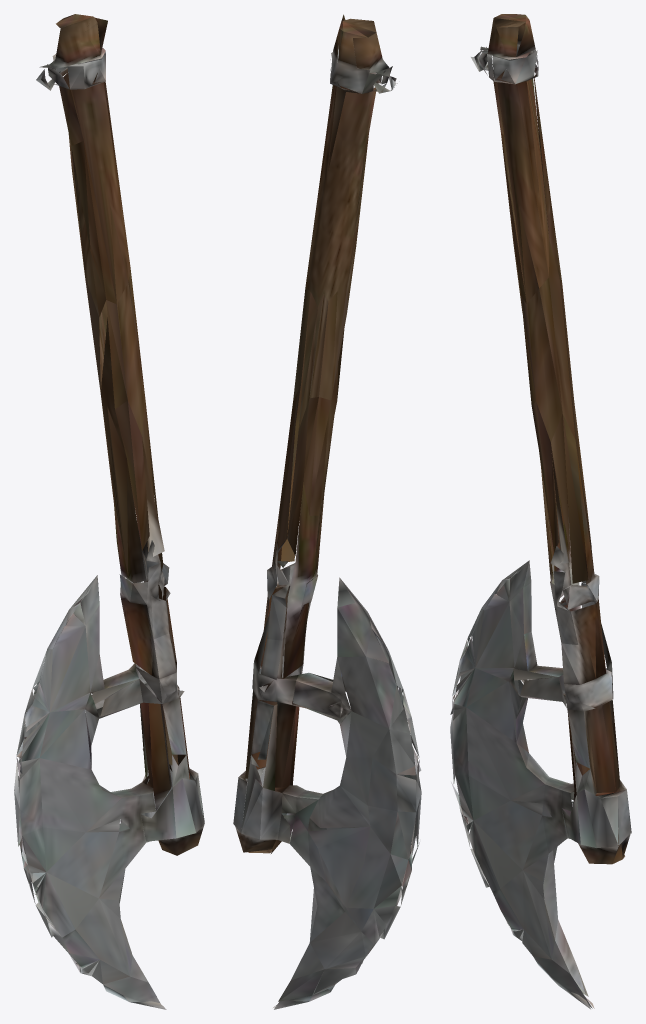
File: bolta.glb
3 renders of one model, left to right at view 1: azimuth 30°, elevation 25°; view 2: azimuth 150°, elevation 25°; view 3: azimuth 330°, elevation 25°, orthographic. The views are drawn at different scales.
Visible parts, largest first — view 1: bolta; view 2: bolta; view 3: bolta.
Boxes of the visible parts, x1,y1,x2,y2 form: bolta: (14,14,204,1009); bolta: (233,14,421,1009); bolta: (450,14,631,1009).
Size of the model in its own units: 0.1517 by 0.7998 by 0.051.
1 material, 1 textured.
